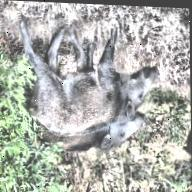boar: (18, 15, 160, 143)
